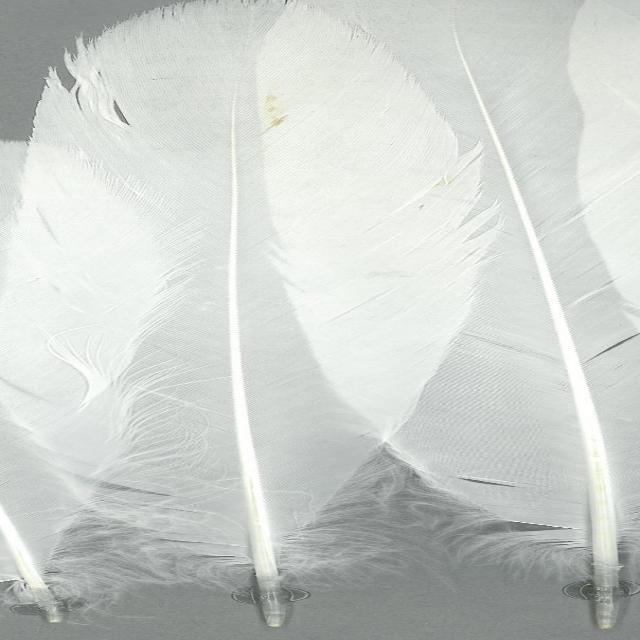feather: (37, 2, 503, 628), (265, 0, 640, 632)
